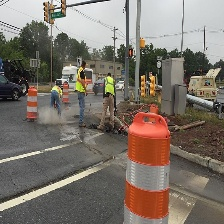no-helmet: (80, 60, 87, 70)
person: (75, 59, 89, 129), (102, 72, 117, 133), (51, 81, 63, 119)
vest: (76, 68, 87, 98), (105, 76, 116, 98)
